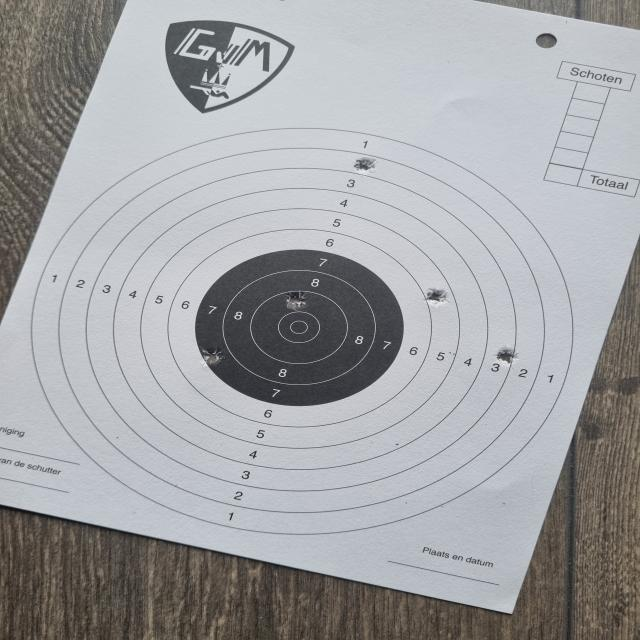3: (493, 346, 518, 364), (354, 158, 378, 174)
6: (422, 288, 450, 304)
7: (199, 346, 225, 367)
9: (286, 290, 308, 308)
Target: (29, 125, 574, 535)
black_contour: (195, 249, 405, 406)
